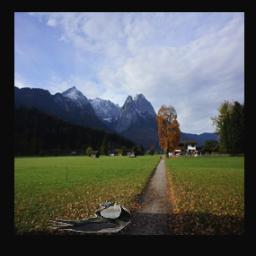Crow: (48, 203, 131, 233)
